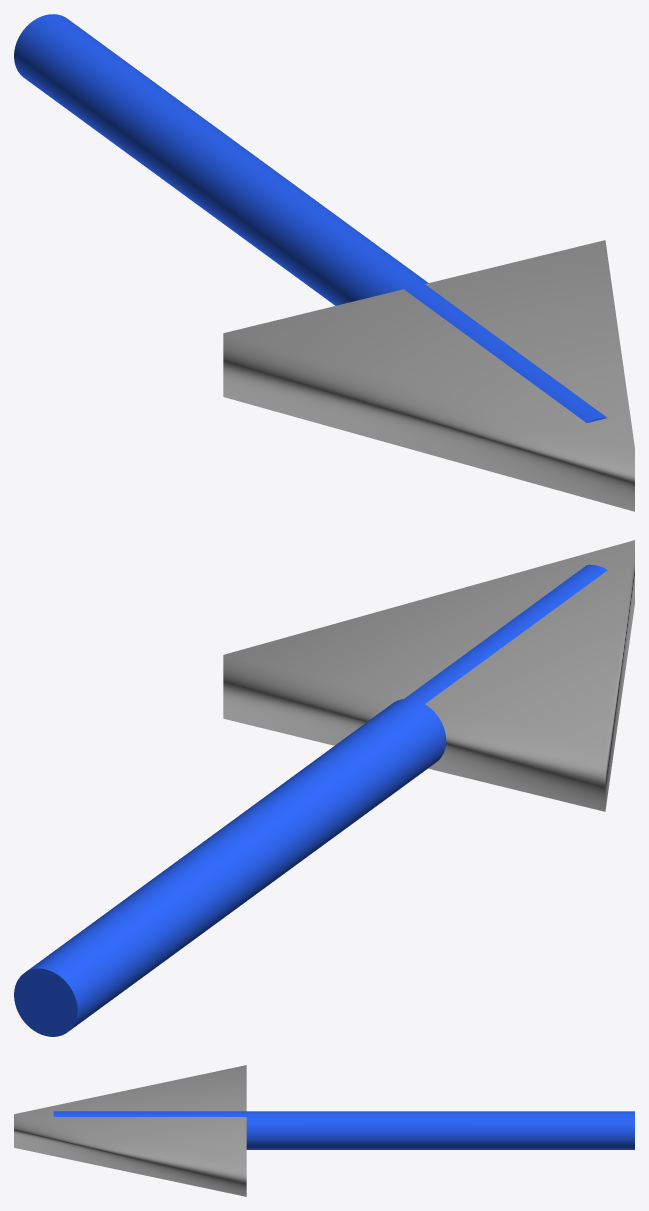
File: Arrow.fbx
3 renders of one model, top to bottom at view 1: azimuth 30°, elevation 25°; view 2: azimuth 150°, elevation 25°; view 3: azimuth 270°, elevation 25°, orthographic. The views are drawn at different scales.
Visible parts, largest first — view 1: Cube, Cylinder; view 2: Cube, Cylinder; view 3: Cube, Cylinder.
Boxes of the visible parts, x1,y1,x2,y2 form: Cube: [223, 240, 634, 511]; Cylinder: [14, 14, 606, 422]; Cube: [223, 540, 634, 811]; Cylinder: [14, 564, 607, 1036]; Cube: [14, 1065, 246, 1196]; Cylinder: [53, 1111, 634, 1149].
Size of the model in its own units: 1.44 by 0.24 by 3.85.
